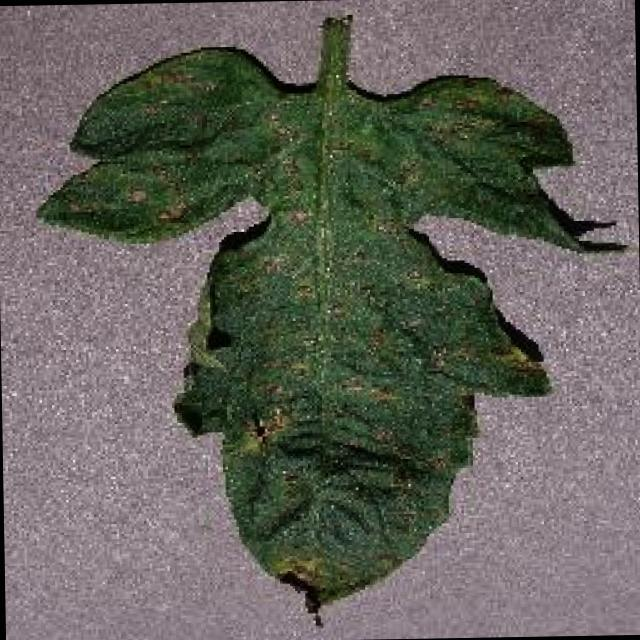Tomato Septoria spot leaf: (27, 40, 630, 622)
